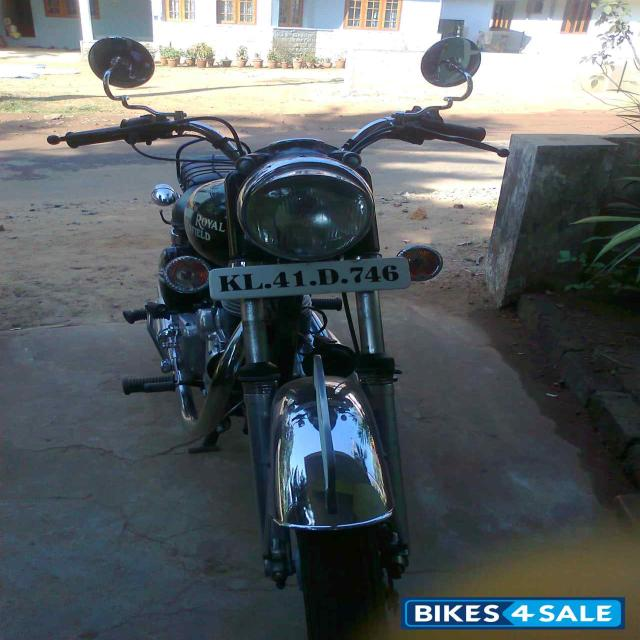license_plate: (206, 256, 412, 300)
